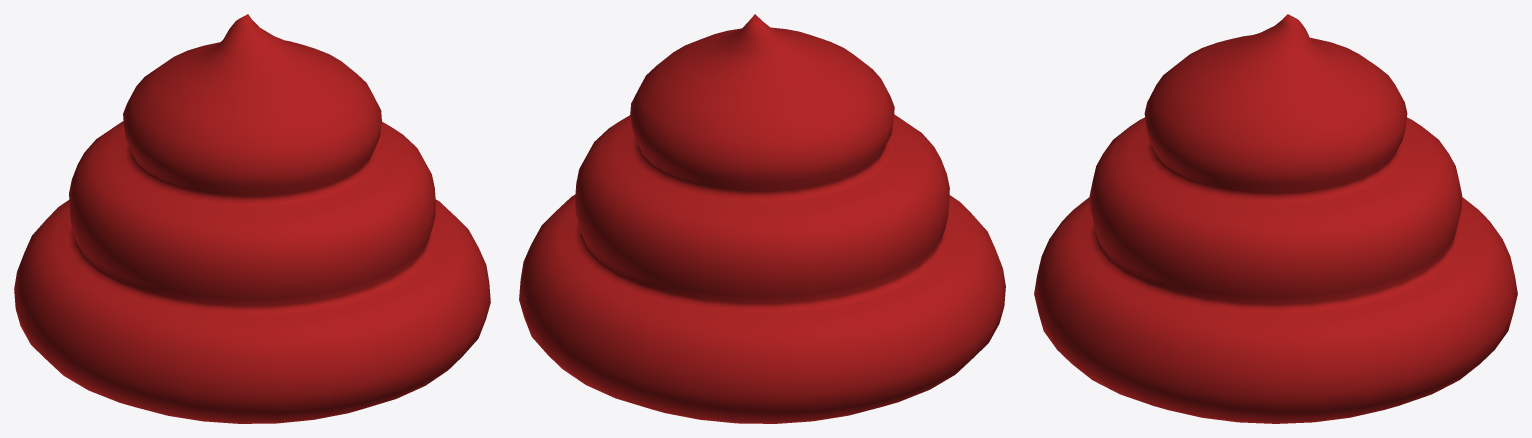
File: ddong.glb
The picture shows the model from 3 angles, left to right: view 1: azimuth 30°, elevation 25°; view 2: azimuth 150°, elevation 25°; view 3: azimuth 270°, elevation 25°; orthographic projection. The views are drawn at different scales.
Visible parts, largest first — view 1: Main; view 2: Main; view 3: Main.
Part boxes in pixels (x1,y1,x2,y2): Main: [14, 14, 490, 423]; Main: [519, 14, 1005, 423]; Main: [1034, 14, 1517, 423].
Size of the model in its own units: 0.7269 by 0.572 by 0.7269.
